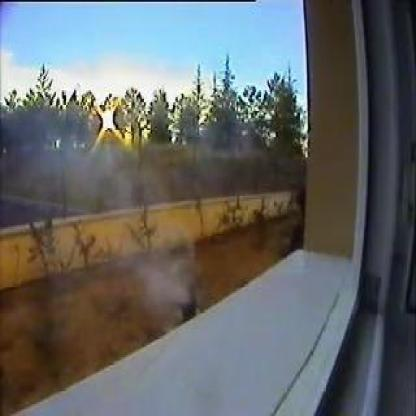-: (128, 244, 188, 299)
